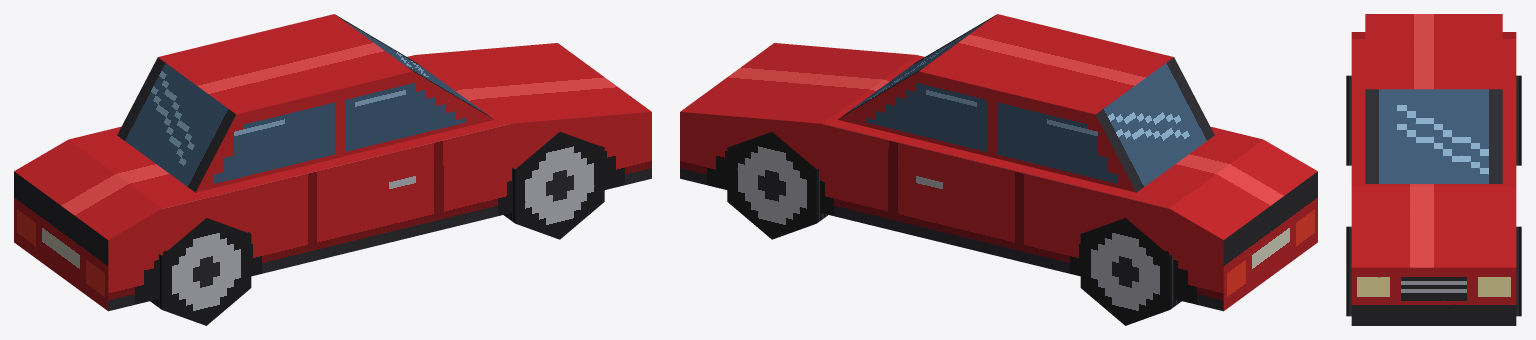
File: car.obj
3 views of the same model, side by side, from view 1: azimuth 30°, elevation 25°; view 2: azimuth 150°, elevation 25°; view 3: azimuth 270°, elevation 25° (orthographic). The views are drawn at different scales.
Visible parts, largest first — view 1: car; view 2: car; view 3: car.
Part boxes in pixels (<box>): car: <box>14,14,651,325</box>; car: <box>680,14,1317,325</box>; car: <box>1346,14,1521,325</box>.
Bounding box in the file's own units: 4 × 1.36 × 1.28.
9 materials, 9 textured.
